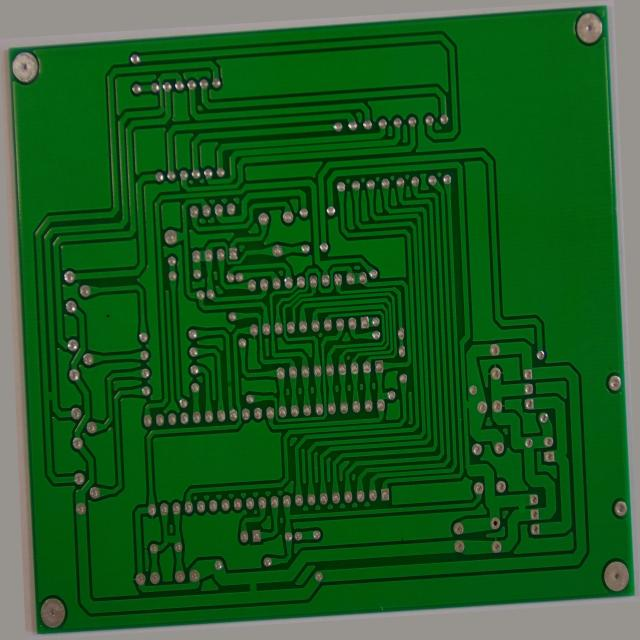short: (230, 587, 249, 610), (146, 532, 165, 553), (26, 373, 44, 391), (515, 524, 530, 542), (463, 411, 477, 427)
